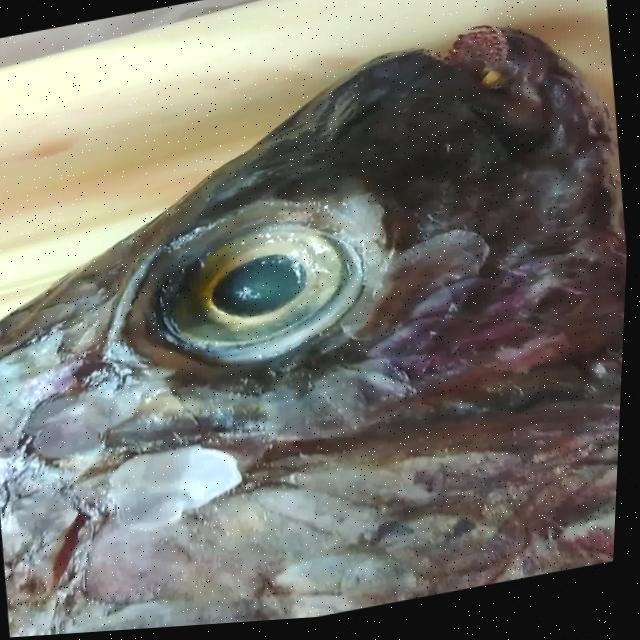Non-Fresh: (112, 164, 419, 411)
